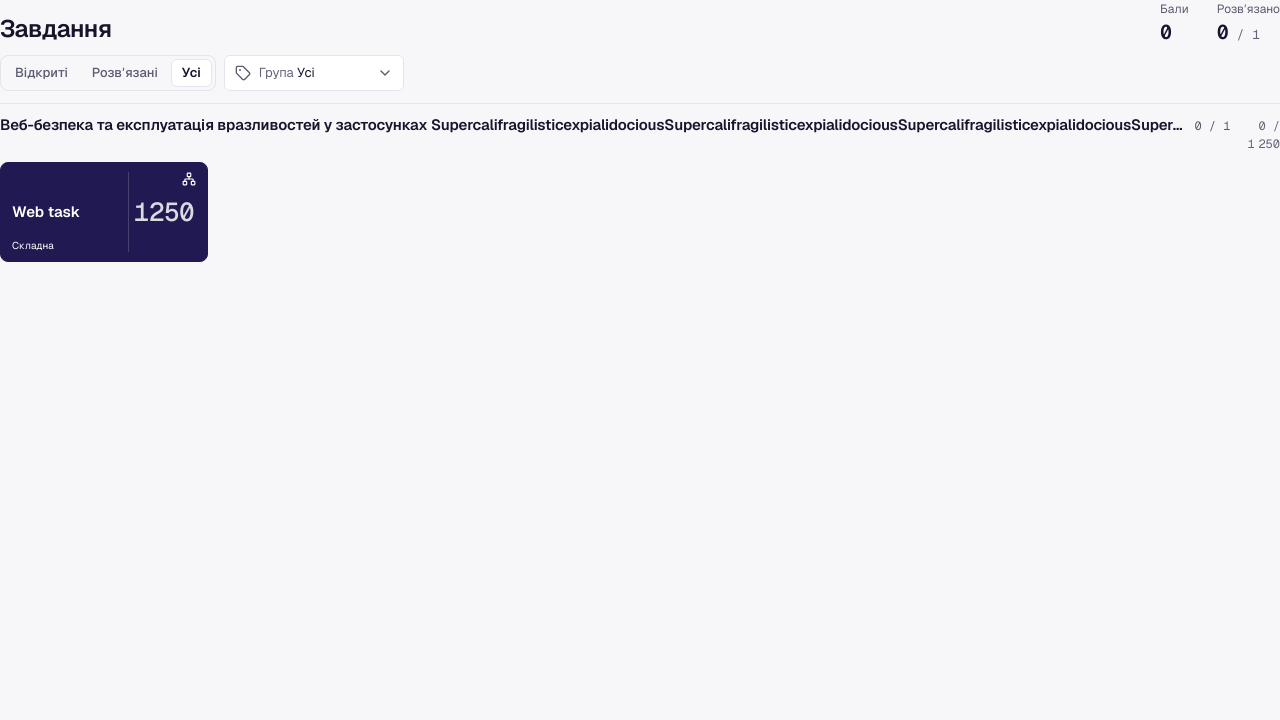
Test: turns unknown referenced definitions into retryable setup without exposing task content
Click the button "Web task Складна 1250".
click(104, 212)  # box 0,162 -> 208,262
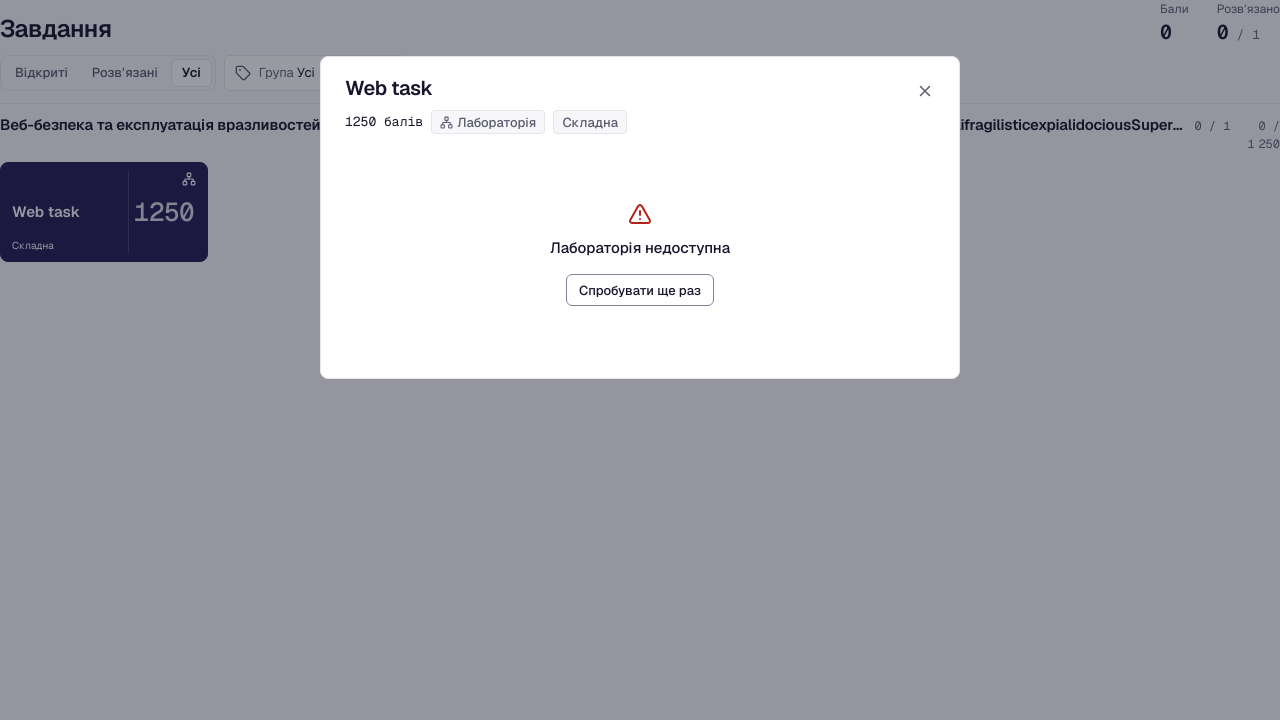
Now the button "Спробувати ще раз" is shown, box 566,274 -> 714,306
